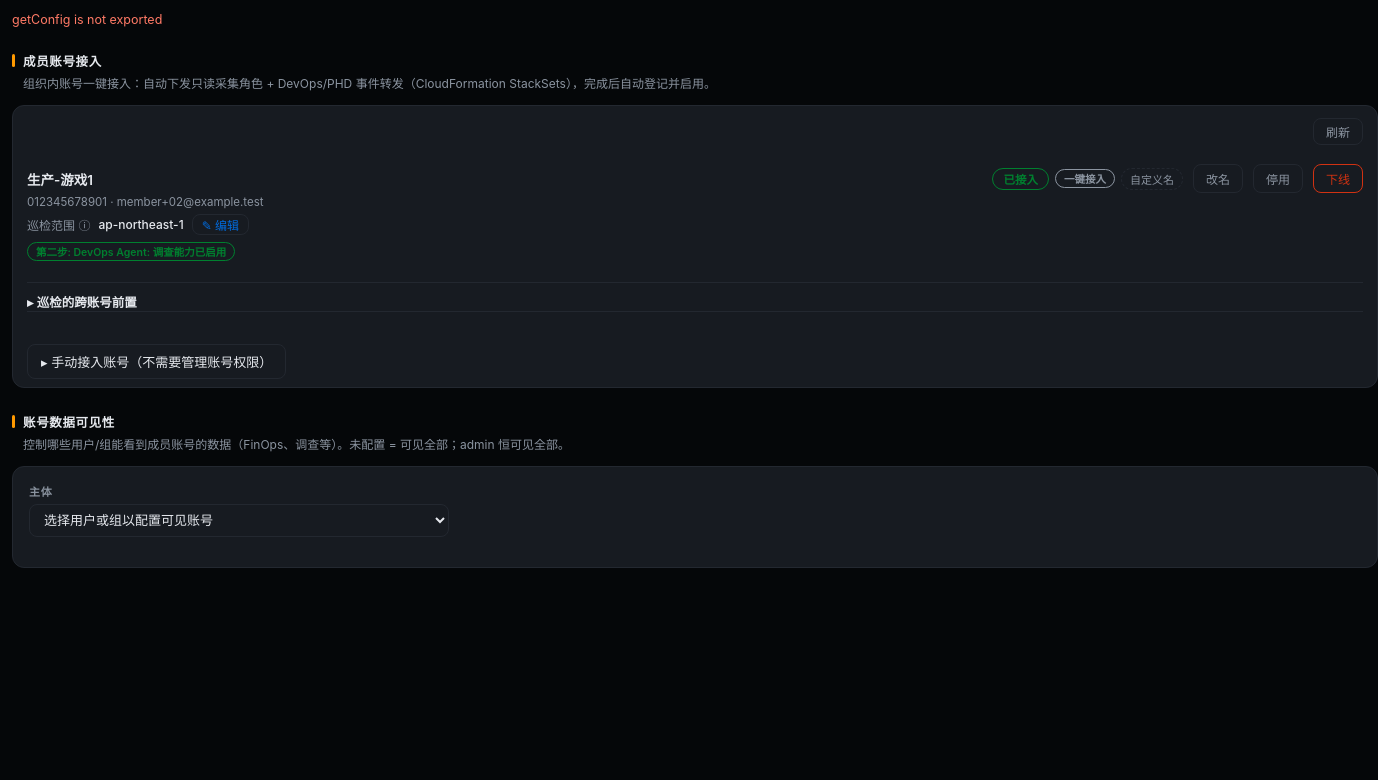
账号 alias（显示名） › ★★★ 预填：aliasManual=true → 输入框带出那个名字
Click the button "改名": (1218, 178) x1=1193 y1=164 x2=1243 y2=193
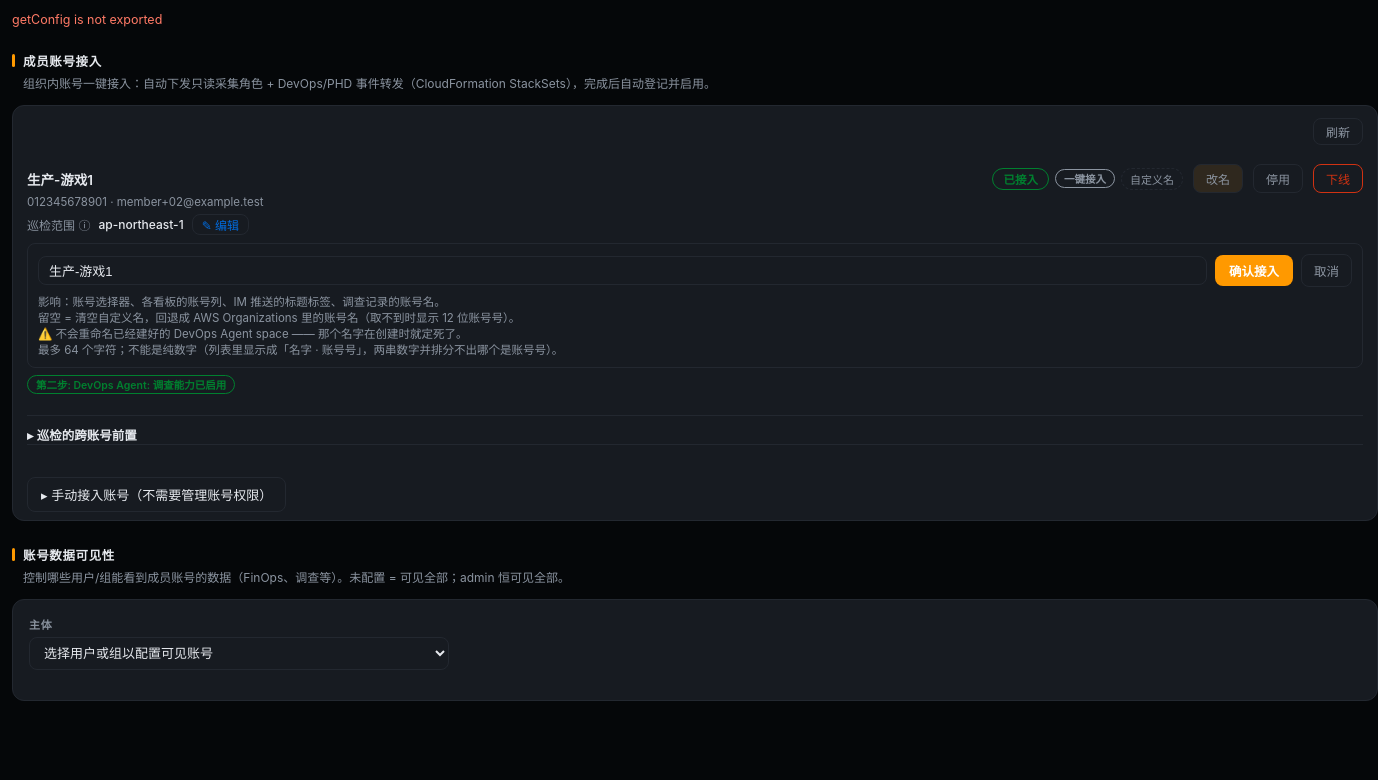
Check: the field holds "生产-游戏1", box x1=38 y1=256 x2=1207 y2=285
